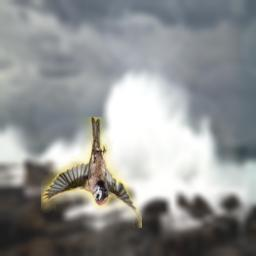Sparrow: (41, 117, 142, 228)
